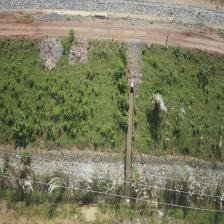rock_toe: (0, 0, 224, 26), (31, 155, 124, 182), (195, 168, 224, 185)
slope_drain: (125, 79, 135, 197)
